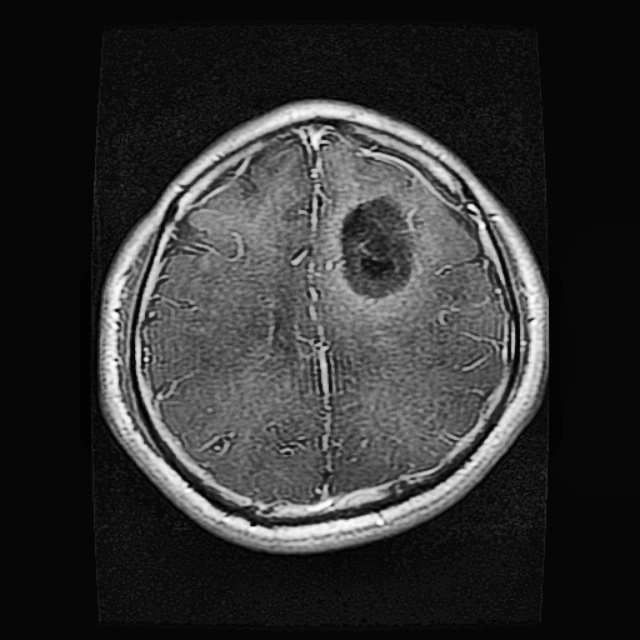Glioma: (337, 197, 418, 299)
